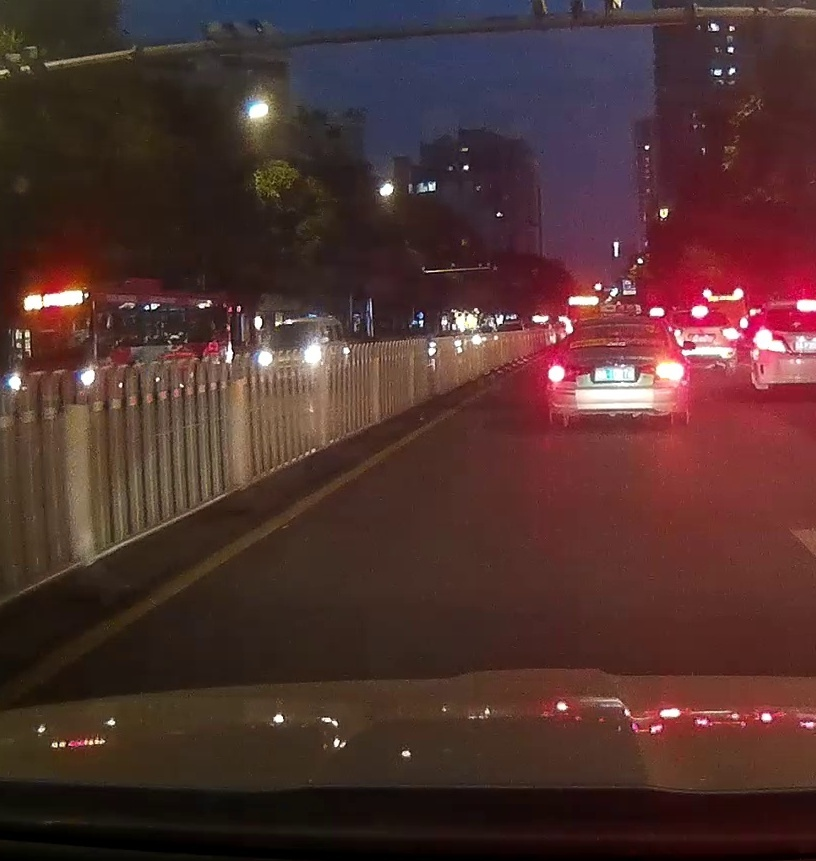L_light: (547, 358, 589, 382)
R_light: (640, 357, 685, 380)
T_light: (609, 331, 622, 336)
night-right: (546, 315, 690, 427)
